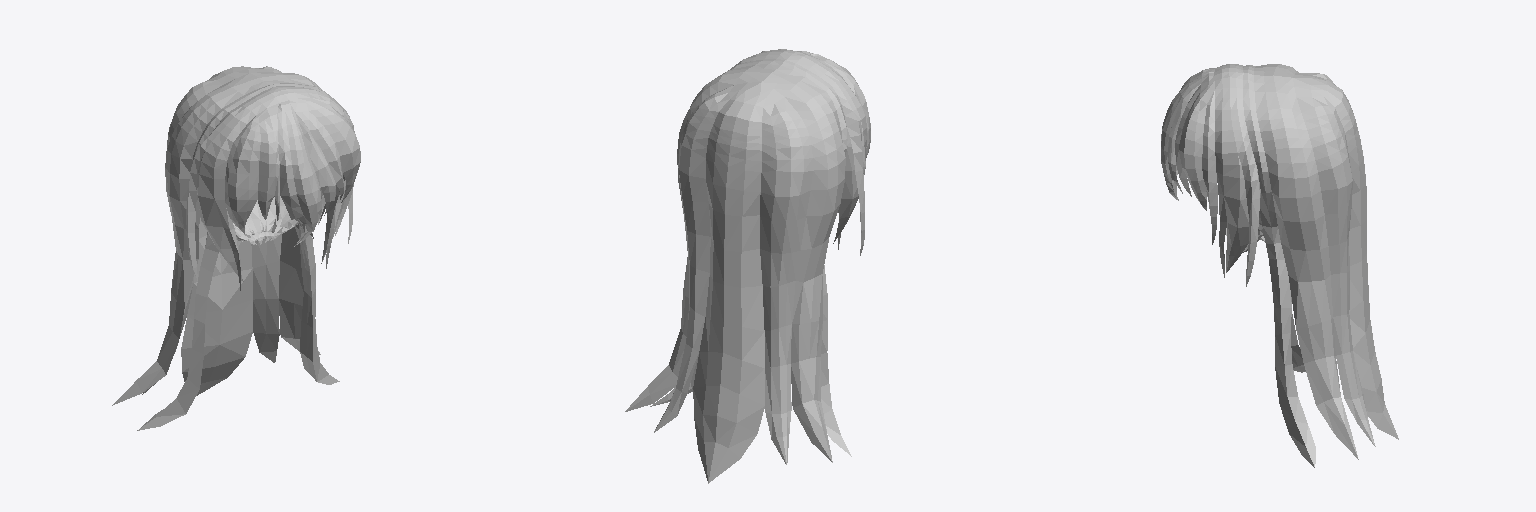
Rendered from 99Hair.obj.
The picture shows the model from 3 angles: view 1: azimuth 30°, elevation 25°; view 2: azimuth 150°, elevation 25°; view 3: azimuth 270°, elevation 25°; orthographic projection.
Visible parts, largest first — view 1: Hair_mtr_Black_TailedGull_115.012, Hair_BackUn_mtr_Black_TailedGull_115.011; view 2: Hair_mtr_Black_TailedGull_115.012; view 3: Hair_mtr_Black_TailedGull_115.012.
Boxes of the visible parts, <box> form: Hair_mtr_Black_TailedGull_115.012: <box>112,66,360,430</box>; Hair_BackUn_mtr_Black_TailedGull_115.011: <box>233,105,325,244</box>; Hair_mtr_Black_TailedGull_115.012: <box>625,49,870,483</box>; Hair_mtr_Black_TailedGull_115.012: <box>1161,64,1398,467</box>.
Bounding box in the file's own units: 0.3905 × 0.6572 × 0.3864.